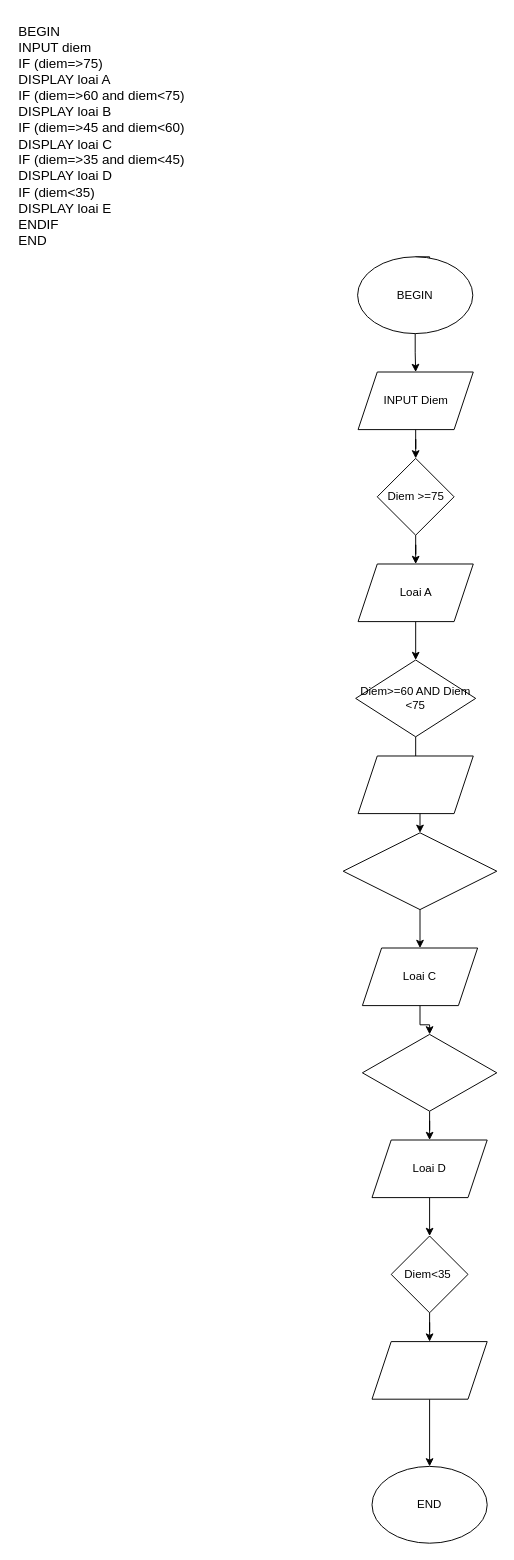
The diagram is 514 pixels wide and 1560 high, and some of its shapes have lost their labels. Here are the shapes that lost their labels. From the top down, the box of each, then its label:
(357, 755, 473, 814): Loai B
(342, 832, 497, 910): Diem>=45 AND Diem<60
(361, 1033, 497, 1111): Diem>=35 AND Diem<45
(371, 1341, 487, 1399): Loai E
